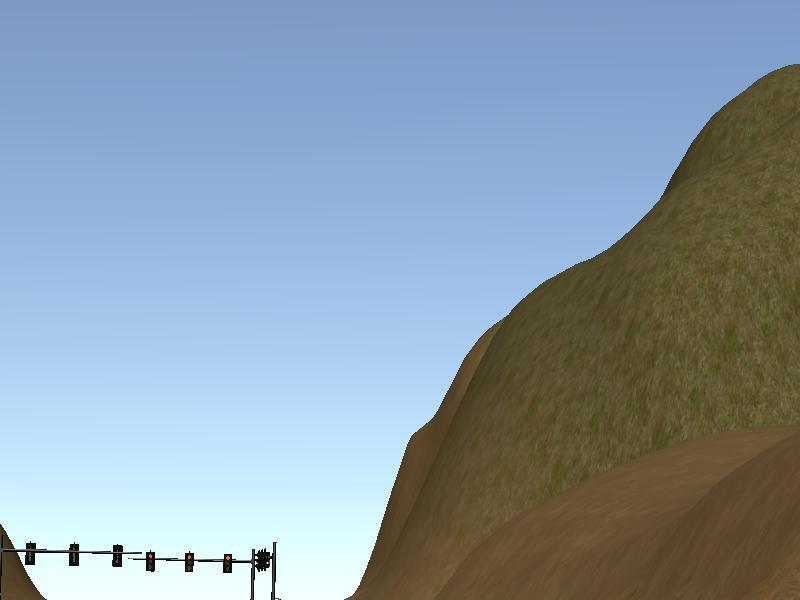Red: (146, 550, 155, 573), (185, 552, 194, 573), (222, 553, 231, 573)
